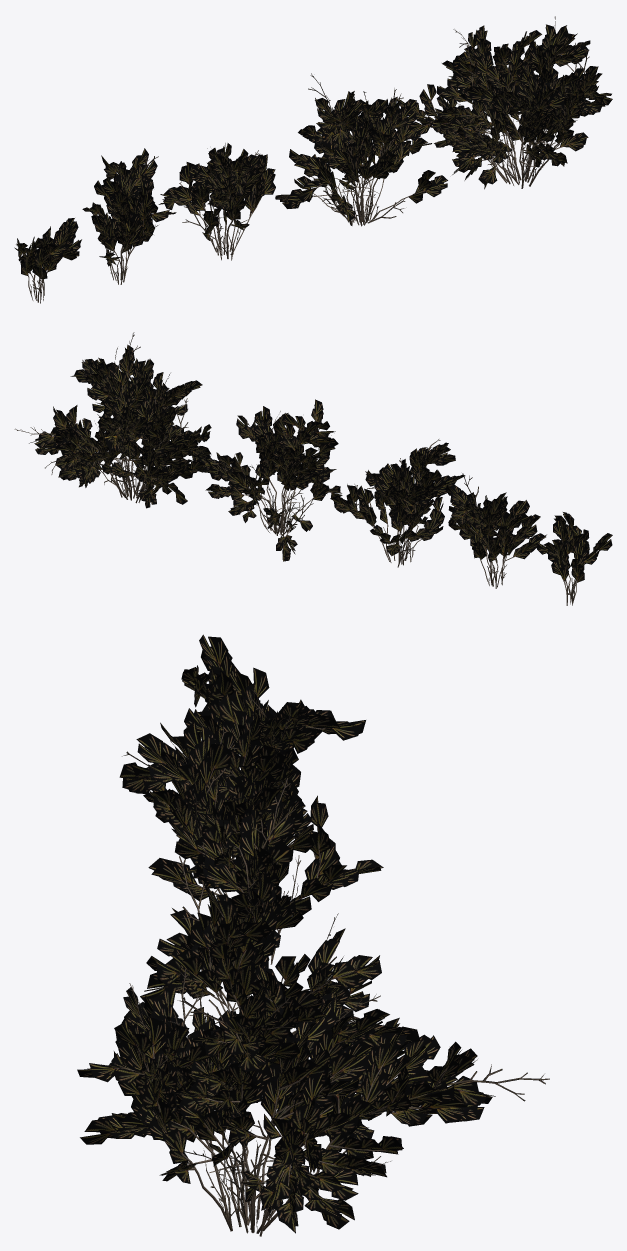
The model's file is wild_rooibos_bush.gltf.
3 renders of one model, top to bottom at view 1: azimuth 30°, elevation 25°; view 2: azimuth 150°, elevation 25°; view 3: azimuth 270°, elevation 25°, orthographic. The views are drawn at different scales.
Size of the model in its own units: 2.28 by 0.5413 by 0.8434.
Materials: 3 (3 with a texture image).
